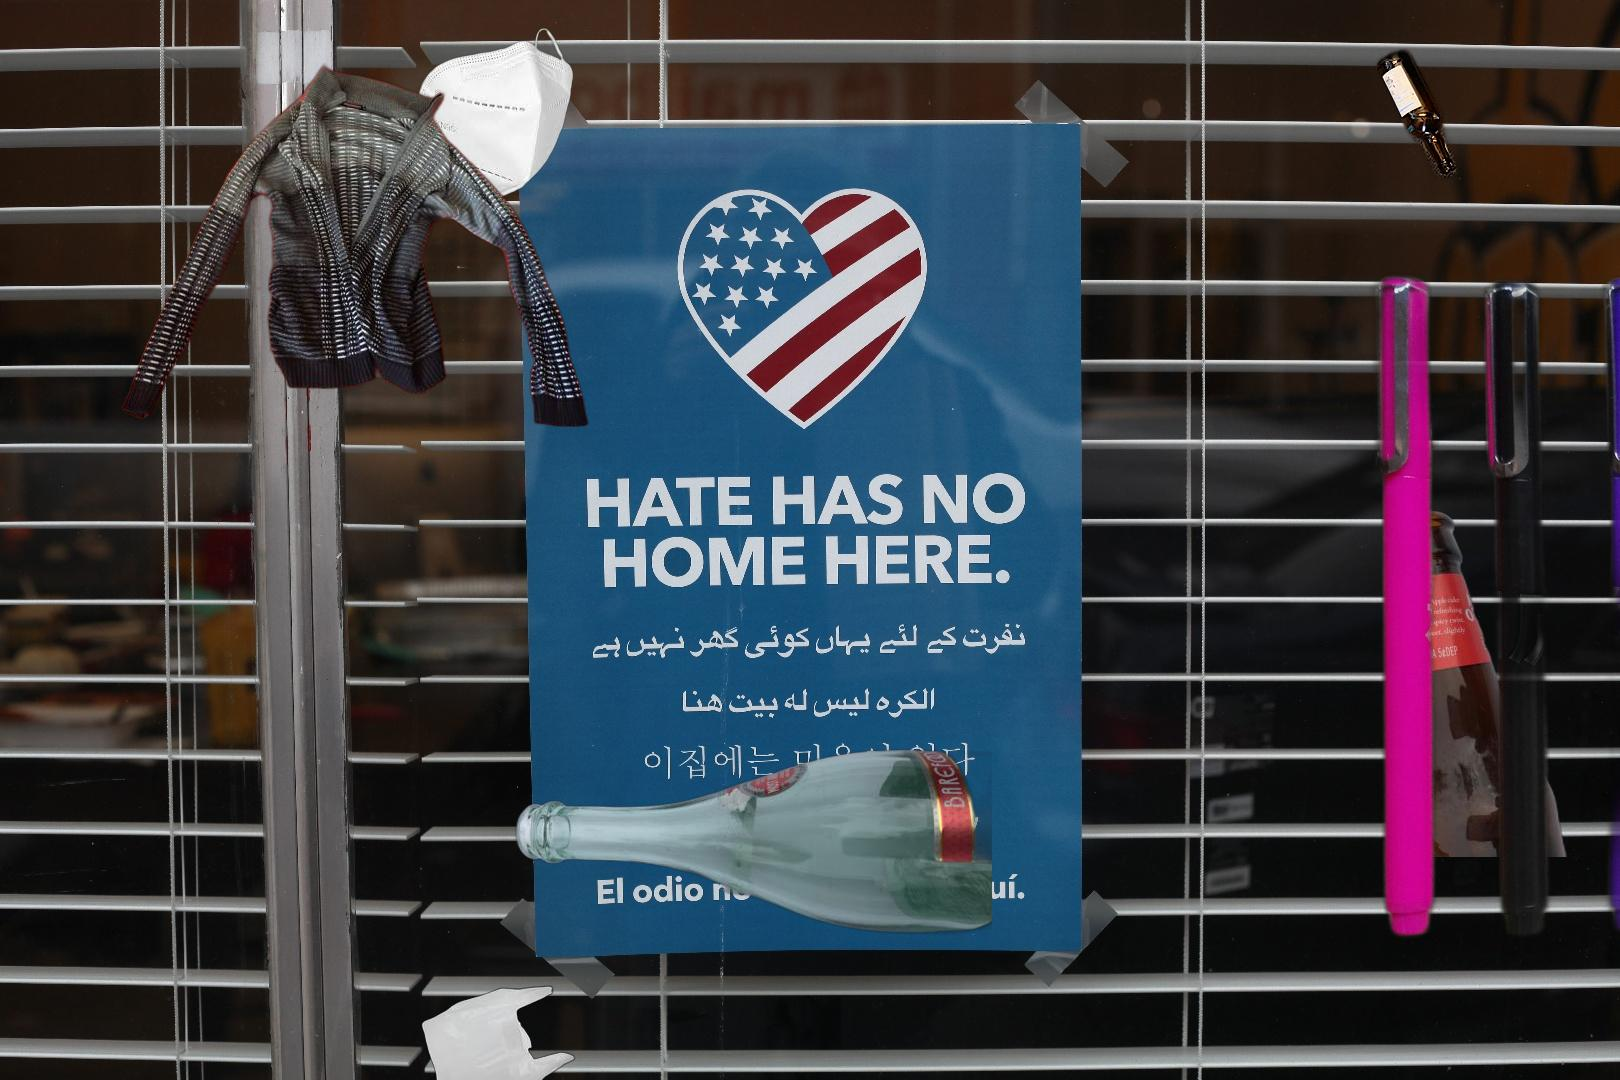clothes: (116, 58, 593, 429)
glass: (512, 746, 992, 938), (1379, 509, 1571, 857), (1373, 43, 1463, 184)
penholder: (1364, 268, 1620, 1059)
plastic-bag: (418, 983, 576, 1080)
trash: (385, 26, 576, 201)
